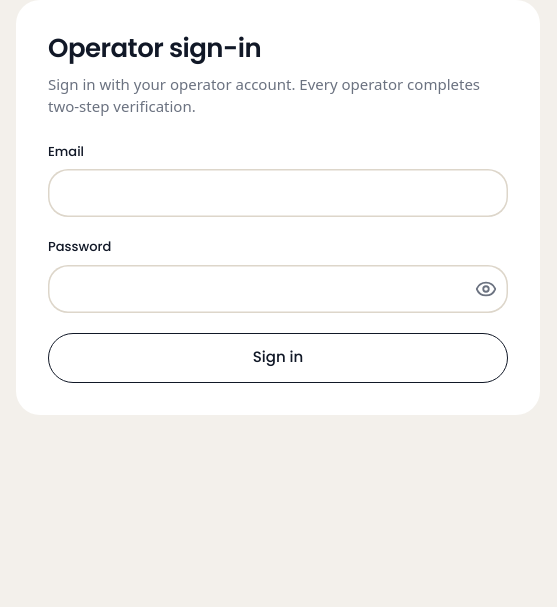
operator sign-in › announces a refusal with its wait, clears the password and keeps the email
The image size is (557, 607).
Expected: the button with test id "console-sign-in-submit" is enabled, [48,332,508,382]
Step 1. Type "op@example.test" into the field with test id "console-email" → coordinates (278, 193), box [48,169,508,217]
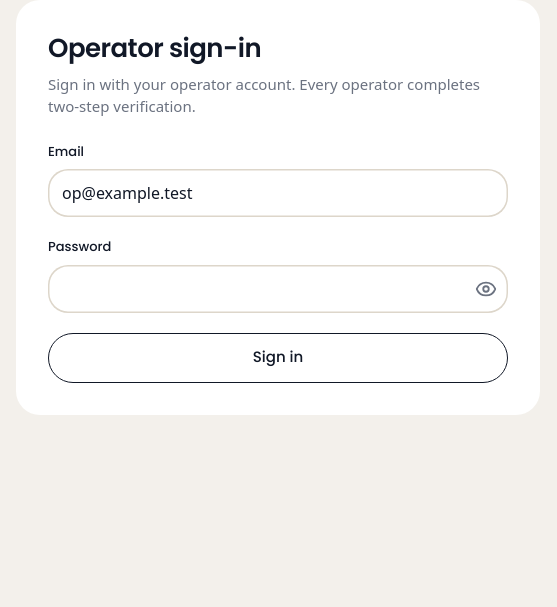
Step 2. Type "private password value" into the password field with test id "console-password" → coordinates (256, 288), box [48,264,464,312]
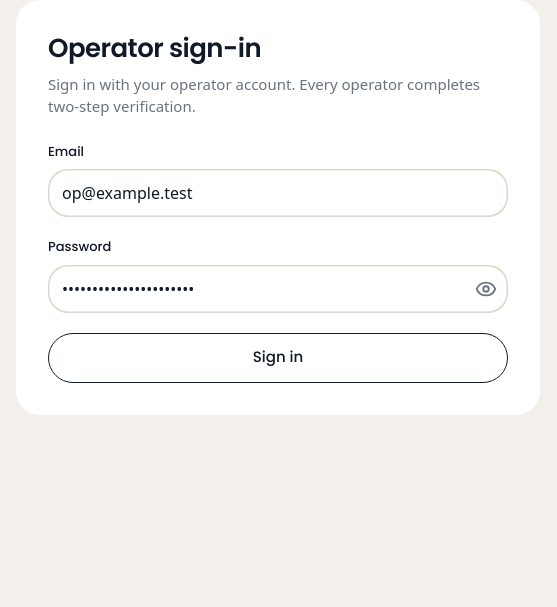
Step 3. Submit the form with test id "console-sign-in-submit", box [48,142,508,382]
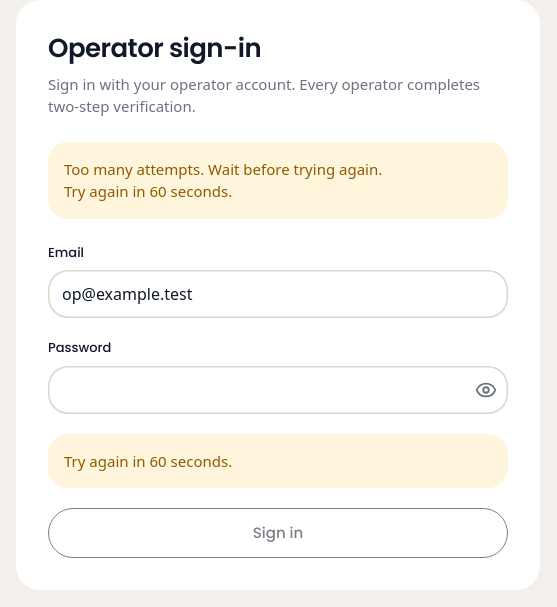
Result: the password field with test id "console-password" is empty at [48,366,464,414]
Result: the button with test id "console-sign-in-submit" is disabled at [48,508,508,558]
